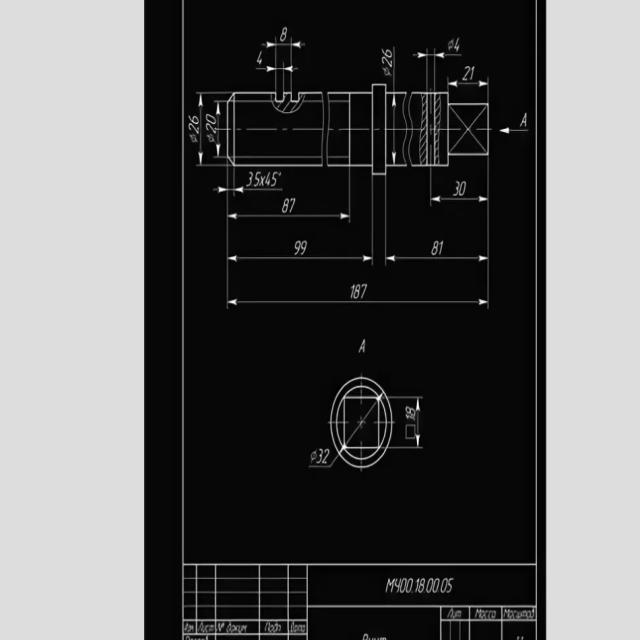marking_line: (212, 167, 490, 309), (222, 168, 374, 265), (383, 177, 491, 270), (224, 167, 351, 224), (429, 168, 491, 210), (193, 91, 227, 167), (260, 39, 305, 91), (210, 168, 283, 195), (392, 394, 424, 451), (434, 50, 462, 91), (450, 75, 489, 103), (213, 98, 226, 159), (446, 74, 490, 91), (413, 48, 429, 91), (257, 64, 278, 90), (281, 62, 297, 89), (391, 96, 397, 165), (499, 125, 529, 135)
numeric: (357, 338, 367, 355), (458, 180, 467, 197), (323, 448, 332, 463), (279, 27, 288, 42), (301, 238, 308, 257), (188, 123, 199, 135), (205, 123, 217, 134), (405, 404, 416, 416), (253, 171, 261, 187), (462, 65, 470, 81), (361, 282, 368, 300), (380, 49, 394, 58), (431, 238, 438, 256), (382, 56, 393, 67), (271, 170, 278, 187), (453, 179, 459, 198), (354, 283, 361, 299), (293, 240, 300, 256), (282, 198, 289, 214), (206, 113, 216, 124), (469, 65, 476, 80), (265, 172, 272, 187), (317, 447, 323, 464), (350, 283, 356, 300), (189, 115, 199, 125), (256, 51, 263, 65), (454, 37, 460, 53), (247, 170, 252, 188), (405, 414, 416, 422), (439, 240, 444, 257), (290, 197, 295, 213)
special_symbol: (382, 66, 392, 79), (310, 449, 317, 465), (207, 133, 216, 144), (189, 133, 198, 144), (447, 39, 456, 50), (259, 176, 265, 188)
